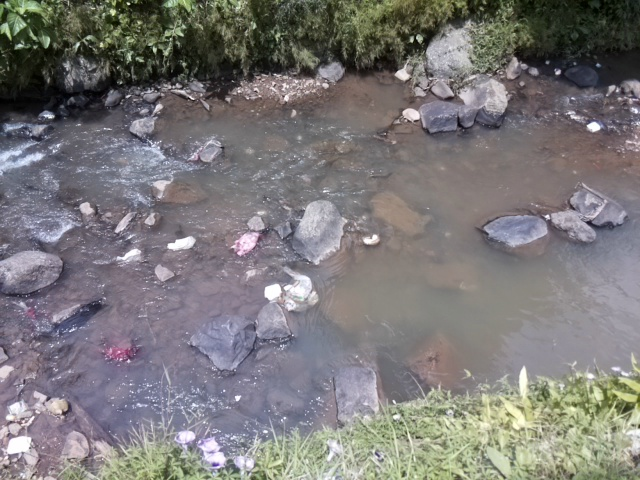Sampah_Plastik: (229, 229, 264, 258), (101, 345, 139, 363)
Sampah_Styrofoam: (167, 233, 196, 251), (6, 435, 32, 455), (262, 283, 283, 300), (587, 121, 601, 133)
